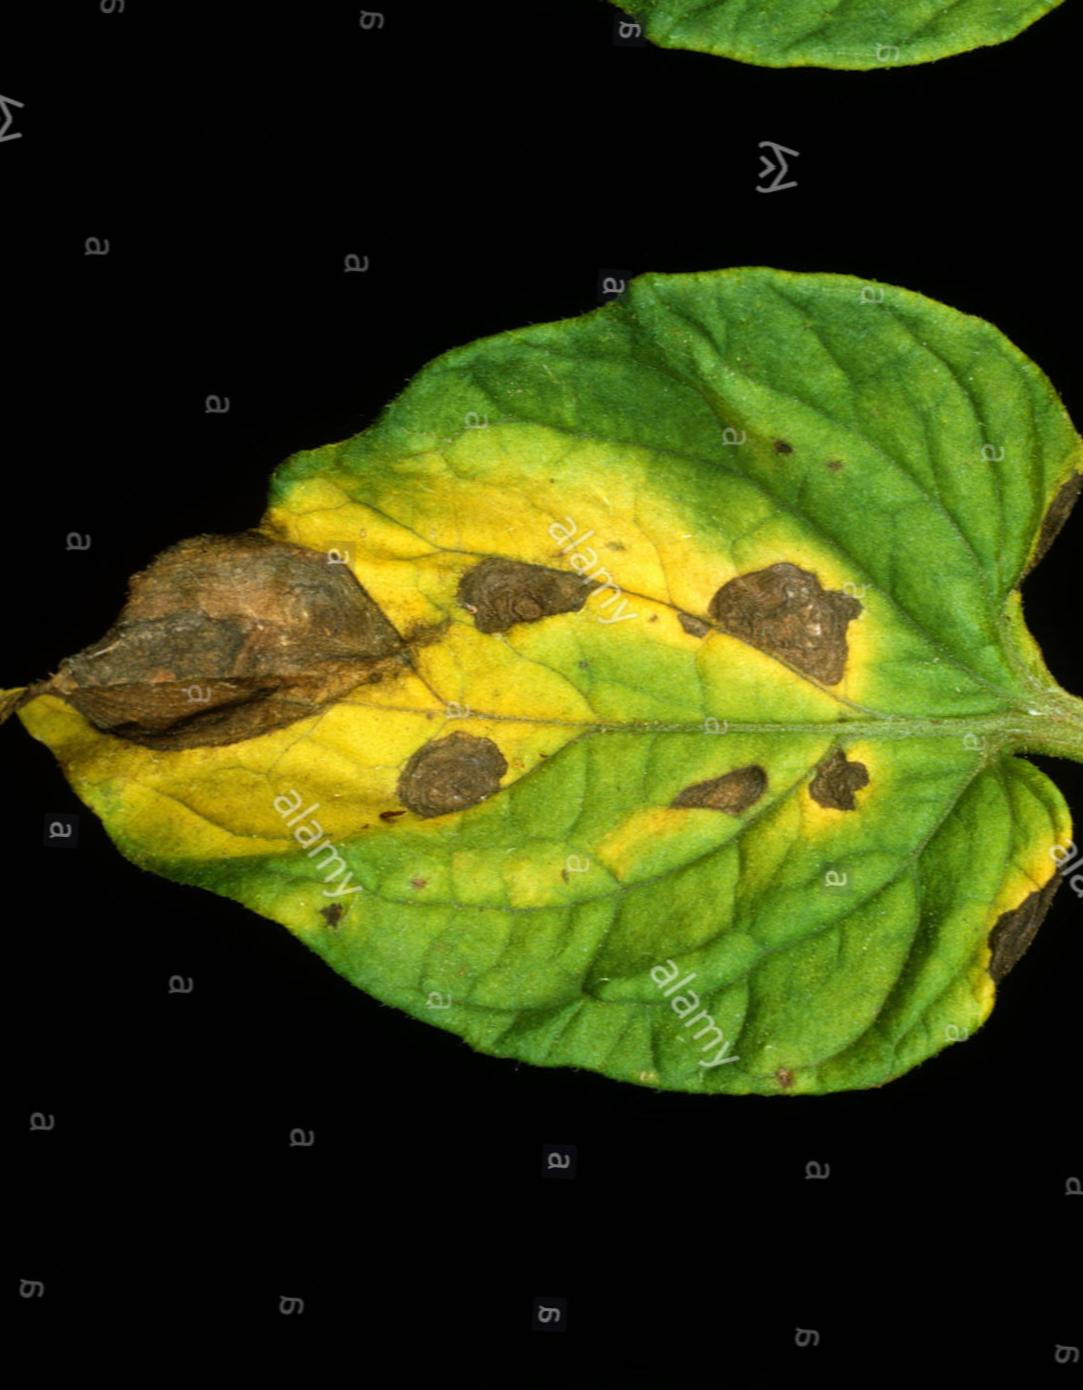Tomato Early blight leaf: (0, 222, 1083, 1098)
